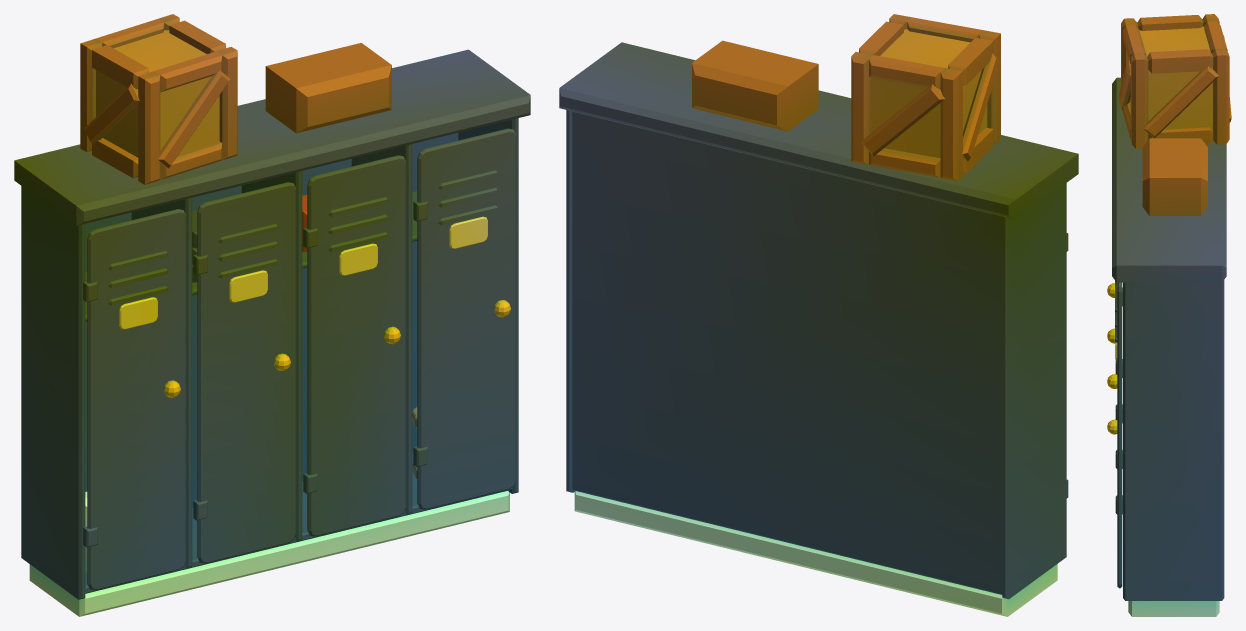
The model's file is Prop_Lockers.fbx.
3 renders of one model, left to right at view 1: azimuth 30°, elevation 25°; view 2: azimuth 150°, elevation 25°; view 3: azimuth 270°, elevation 25°, orthographic. The views are drawn at different scales.
Parts seen in each view (by area): view 1: Prop_Lockers, LockerDoor_4, LockerDoor_3, LockerDoor_2, LockerDoor_1; view 2: Prop_Lockers; view 3: Prop_Lockers, LockerDoor_4, LockerDoor_3.
Boxes of the visible parts, x1,y1,x2,y2 form: Prop_Lockers: (14, 14, 530, 616); LockerDoor_4: (413, 128, 516, 509); LockerDoor_3: (303, 155, 406, 536); LockerDoor_2: (193, 182, 296, 563); LockerDoor_1: (83, 209, 186, 590); Prop_Lockers: (559, 14, 1078, 616); Prop_Lockers: (1112, 14, 1231, 616); LockerDoor_4: (1107, 282, 1122, 588); LockerDoor_3: (1107, 280, 1122, 468).
Size of the model in its own units: 1.9 by 2.1 by 0.5315.
